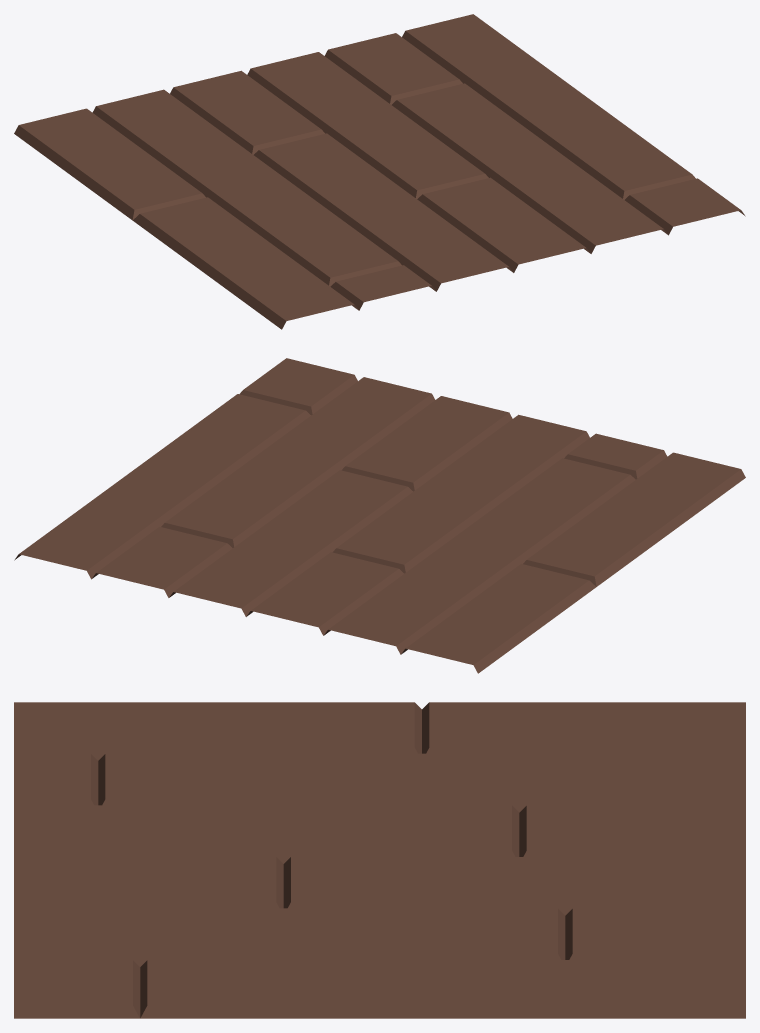
File: LPHorror_ModularFloorPlanks.fbx
3 renders of one model, top to bottom at view 1: azimuth 30°, elevation 25°; view 2: azimuth 150°, elevation 25°; view 3: azimuth 270°, elevation 25°, orthographic. The views are drawn at different scales.
Visible parts, largest first — view 1: ModularFloorPlanks; view 2: ModularFloorPlanks; view 3: ModularFloorPlanks.
Boxes of the visible parts, x1,y1,x2,y2 form: ModularFloorPlanks: (14,14,745,329); ModularFloorPlanks: (14,358,745,673); ModularFloorPlanks: (14,702,745,1018).
Bounding box in the file's own units: 200 × 3.12 × 200.
